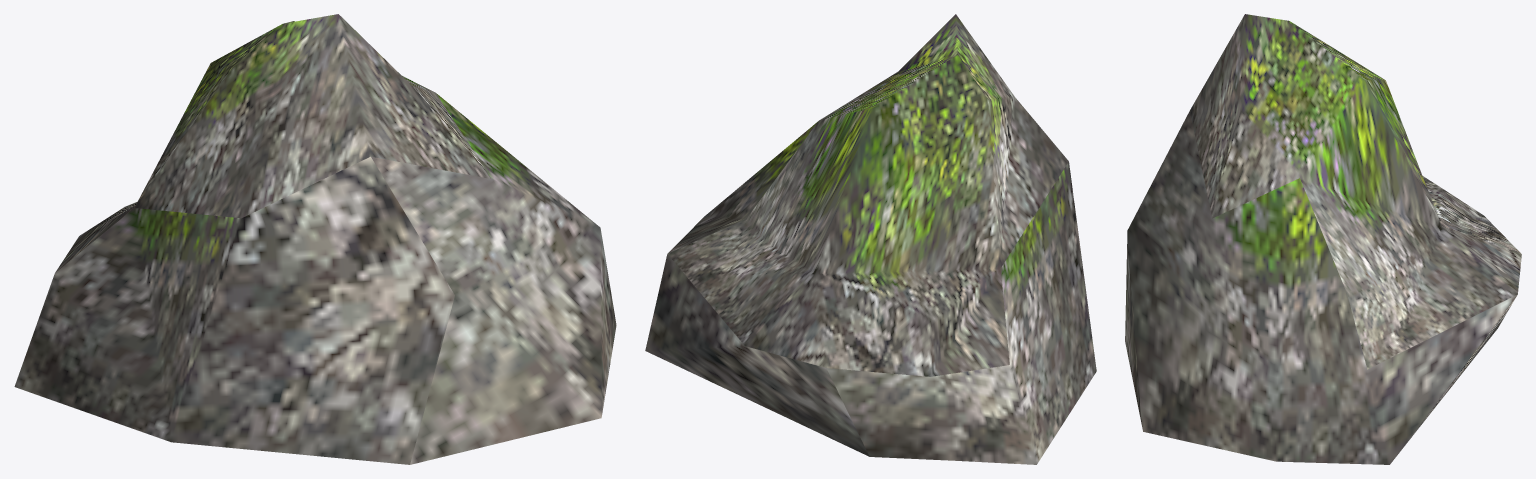
The model's file is highland2_moss.glb.
3 views of the same model, side by side, from view 1: azimuth 30°, elevation 25°; view 2: azimuth 150°, elevation 25°; view 3: azimuth 270°, elevation 25° (orthographic). The views are drawn at different scales.
Visible parts, largest first — view 1: highland2_moss; view 2: highland2_moss; view 3: highland2_moss.
Part boxes in pixels (<box>): highland2_moss: <box>14,14,616,464</box>; highland2_moss: <box>645,14,1096,464</box>; highland2_moss: <box>1125,14,1521,464</box>.
Size of the model in its own units: 1.68 by 1.29 by 1.38.
1 material, 1 textured.
